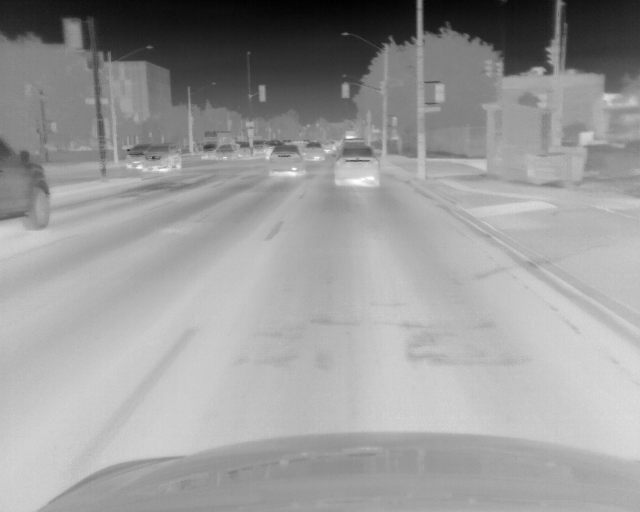car: (1, 136, 52, 231), (334, 145, 380, 189), (268, 145, 306, 178), (142, 145, 182, 174), (125, 144, 145, 170), (304, 140, 326, 163), (219, 144, 238, 162), (200, 142, 218, 160), (262, 141, 277, 155)
